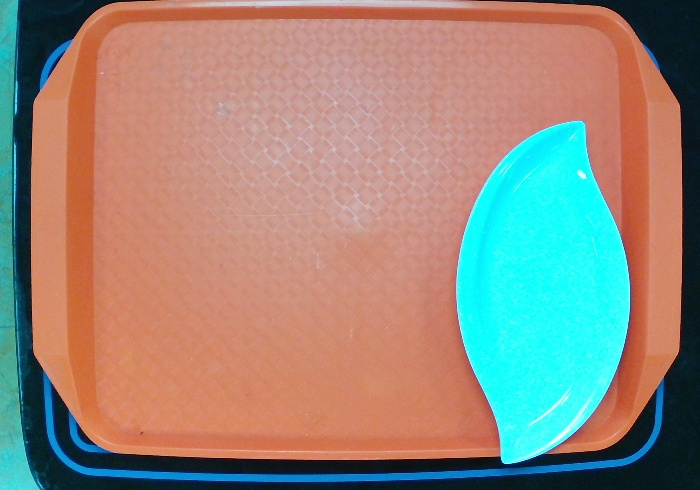RJxy-Jian_Jiao_Pan: (428, 104, 646, 478)
